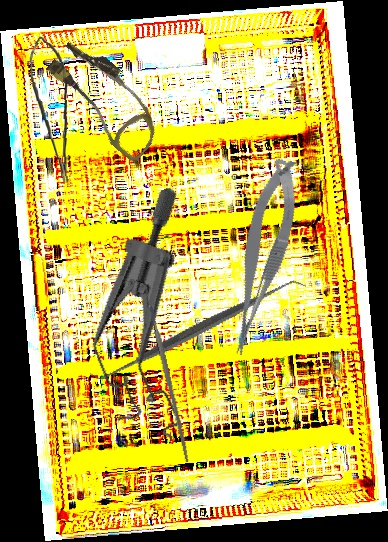Cannula: (35, 32, 176, 165)
Micro Scissor: (206, 154, 316, 359), (27, 35, 73, 185)
Scalpel Handle: (147, 304, 192, 463)
Spatula Surgical: (89, 220, 307, 440)
Speculum: (44, 185, 259, 455)
